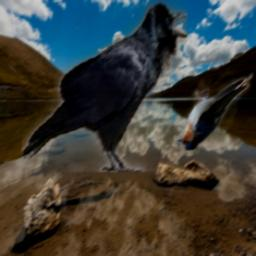Crow: (22, 1, 187, 172)
Swallow: (176, 73, 253, 150)
